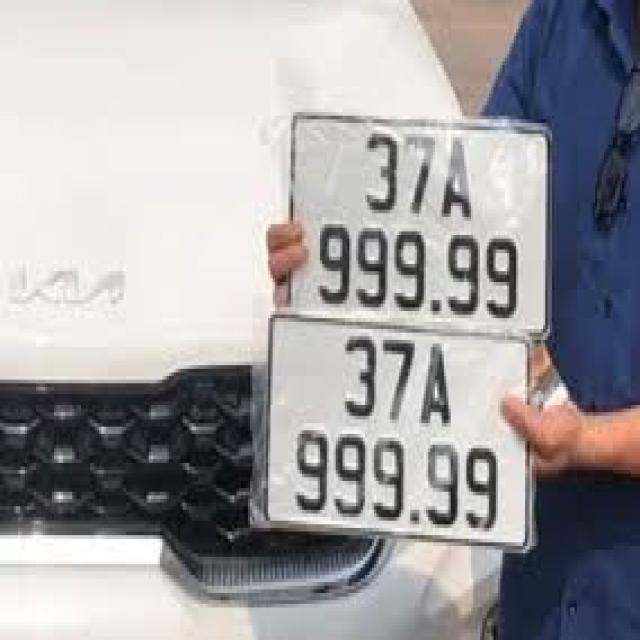bien_so: (274, 102, 564, 344), (258, 312, 546, 547)
